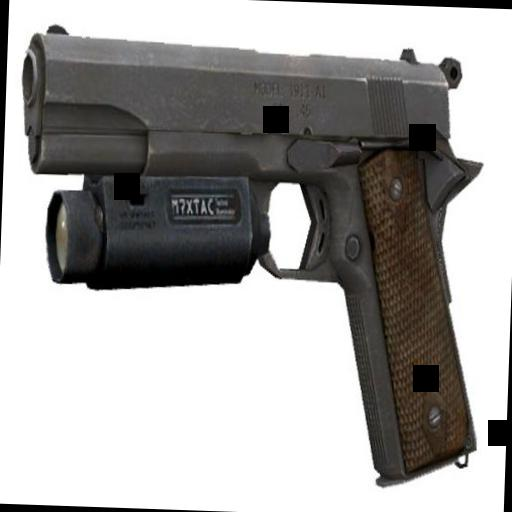Handgun: (8, 12, 490, 487)
